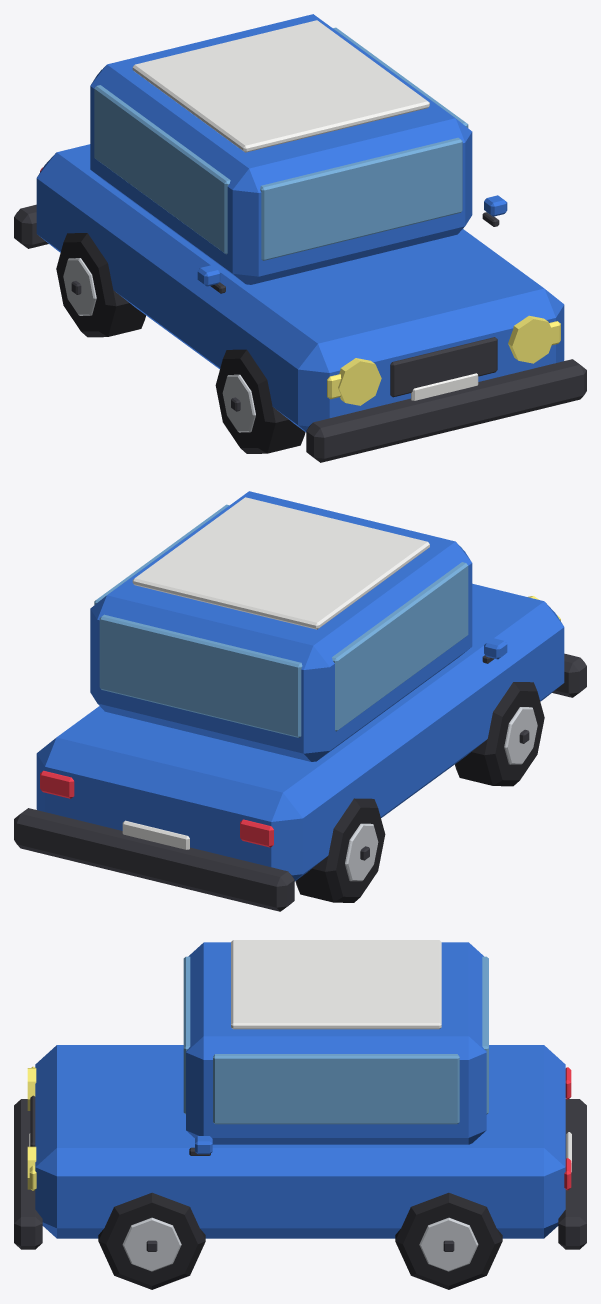
Rendered from BlueCompactCar.fbx.
3 renders of one model, top to bottom at view 1: azimuth 30°, elevation 25°; view 2: azimuth 150°, elevation 25°; view 3: azimuth 270°, elevation 25°, orthographic. The views are drawn at different scales.
Visible parts, largest first — view 1: BlueCompactCar, BlueCompactCar_WheelFR, BlueCompactCar_WheelBR; view 2: BlueCompactCar, BlueCompactCar_WheelBR, BlueCompactCar_WheelFR; view 3: BlueCompactCar, BlueCompactCar_WheelBL, BlueCompactCar_WheelFL.
Boxes of the visible parts, x1,y1,x2,y2 form: BlueCompactCar: (14,14,586,462); BlueCompactCar_WheelFR: (215,349,305,453); BlueCompactCar_WheelBR: (56,233,145,337); BlueCompactCar: (14,491,586,911); BlueCompactCar_WheelBR: (295,798,385,902); BlueCompactCar_WheelFR: (455,682,544,786); BlueCompactCar: (14,940,586,1249); BlueCompactCar_WheelBL: (395,1192,502,1289); BlueCompactCar_WheelFL: (98,1192,205,1289).
Bounding box in the file's own units: 4.55 × 3.82 × 8.
Materials: 1 (1 with a texture image).
